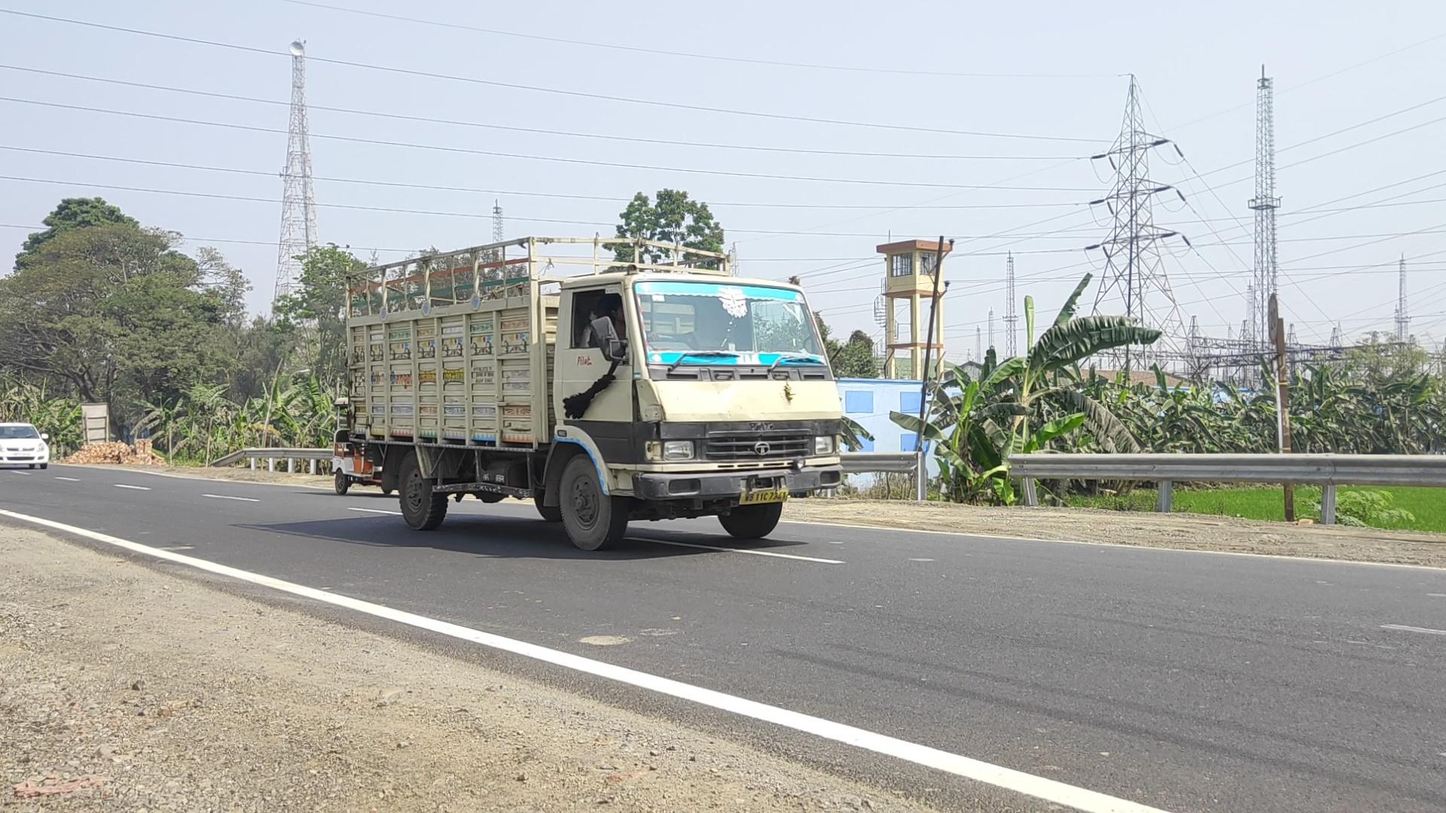car: (1, 422, 49, 470)
truck: (342, 233, 844, 550)
